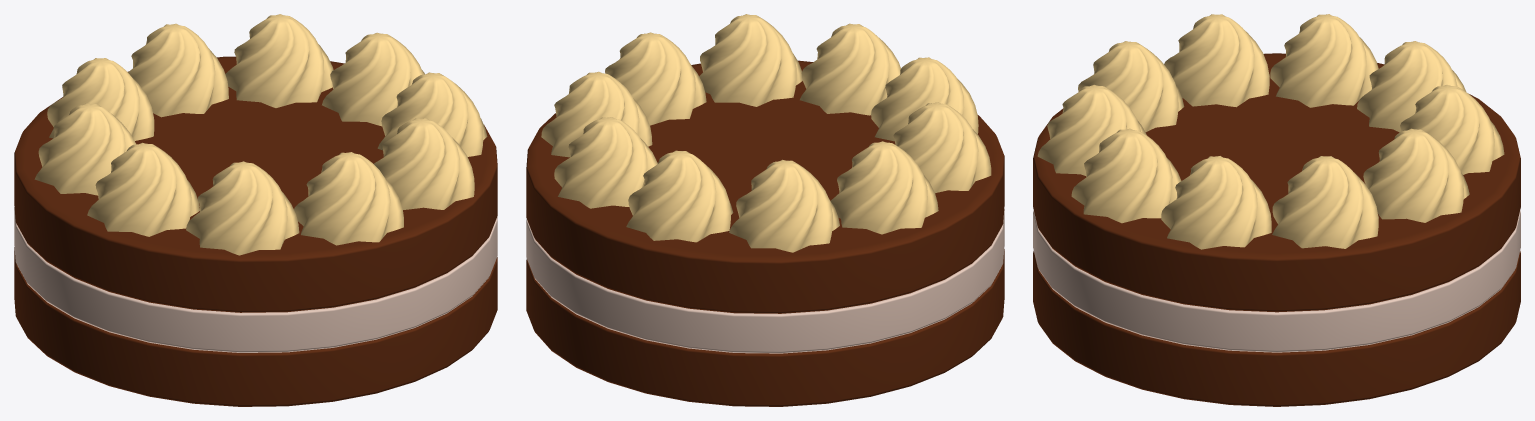
The model's file is SM_chocolate_cake.glb.
3 views of the same model, side by side, from view 1: azimuth 30°, elevation 25°; view 2: azimuth 150°, elevation 25°; view 3: azimuth 270°, elevation 25° (orthographic).
Parts seen in each view (by area): view 1: SM_chocolate_cake; view 2: SM_chocolate_cake; view 3: SM_chocolate_cake.
Part boxes in pixels (x1,y1,x2,y2): SM_chocolate_cake: (14, 14, 497, 406); SM_chocolate_cake: (526, 14, 1004, 406); SM_chocolate_cake: (1033, 14, 1520, 406).
Bounding box in the file's own units: 0.3153 × 0.1555 × 0.3153.
1 material, 1 textured.
